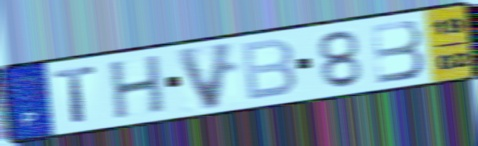8: (315, 29, 364, 89)
B: (238, 36, 299, 103), (368, 18, 428, 86)
H: (109, 52, 167, 122)
T: (50, 63, 100, 125)
V: (173, 39, 239, 113)
